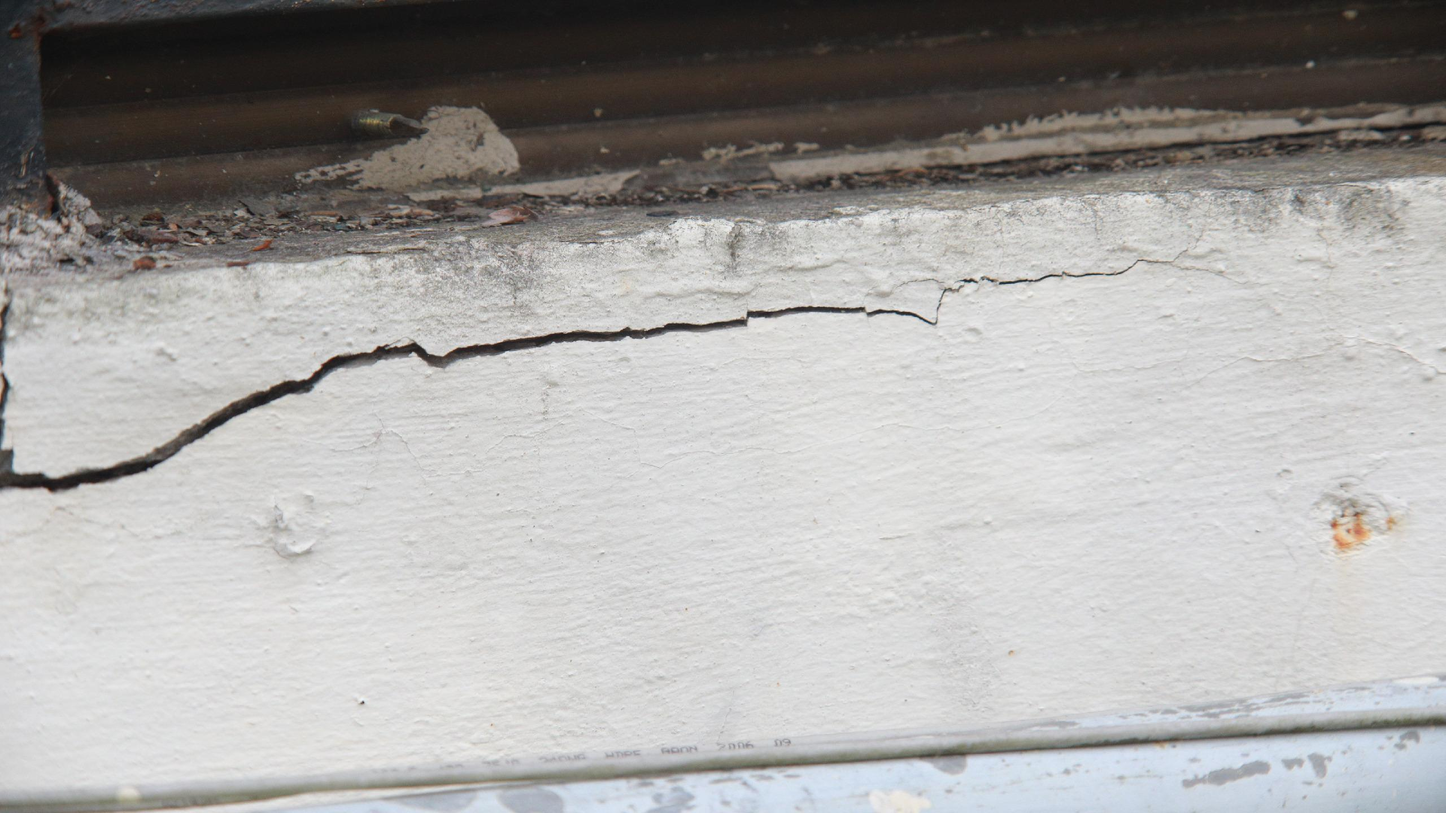crack: (0, 259, 1149, 493)
